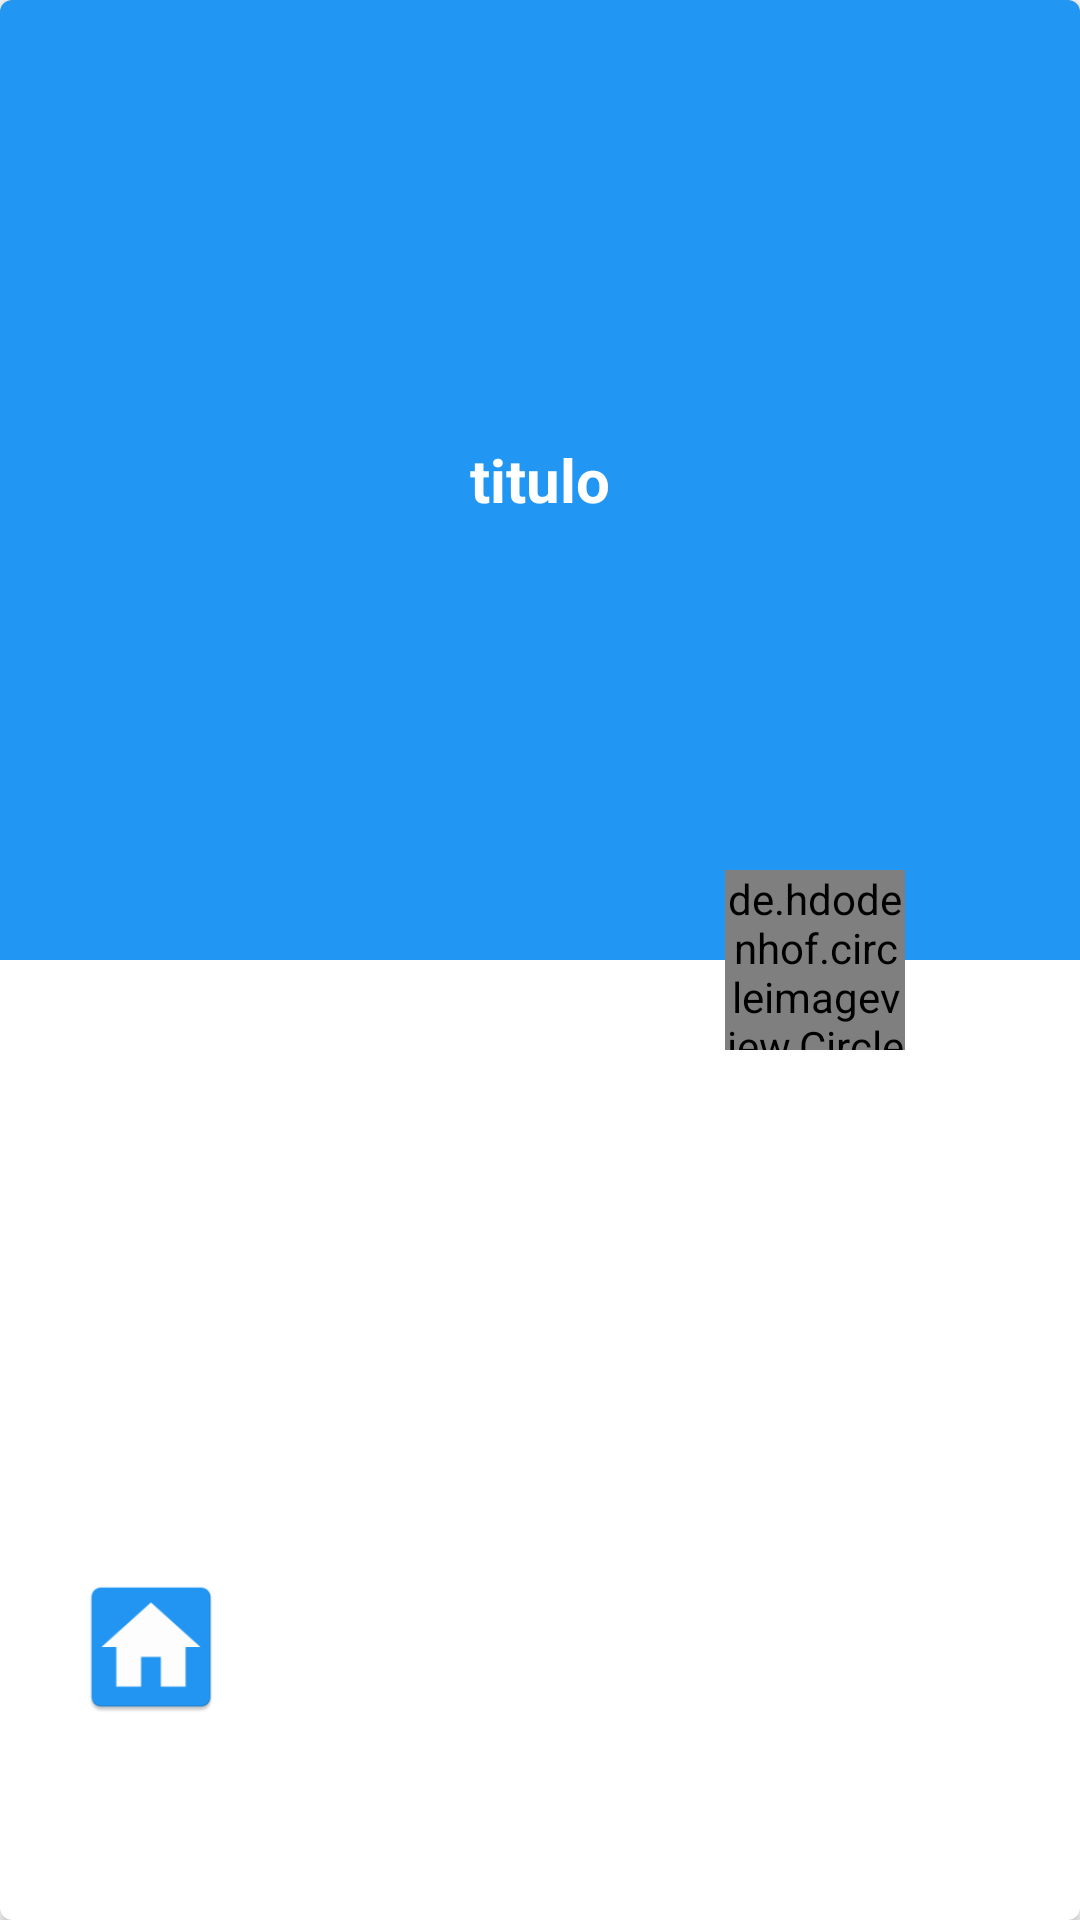

Icon bounding boxes for this 1080×1920 phone screenshot, format (x1, y1, x2, y2):
home: (91, 1587, 212, 1710)
